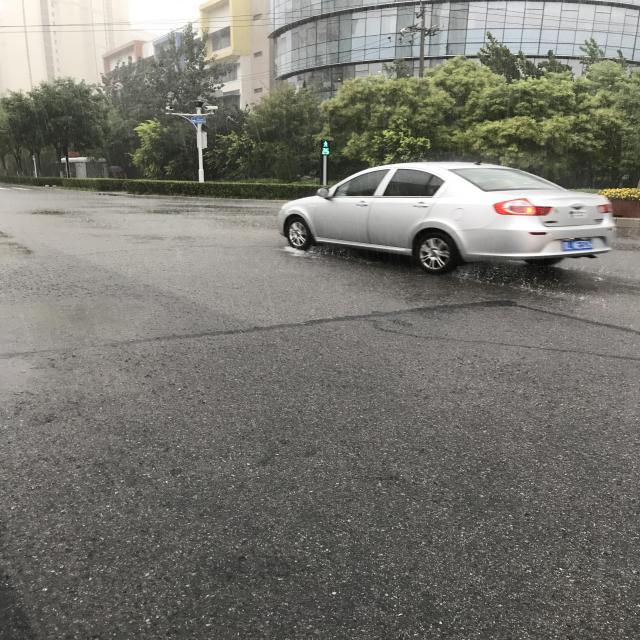car: (162, 16, 272, 364)
